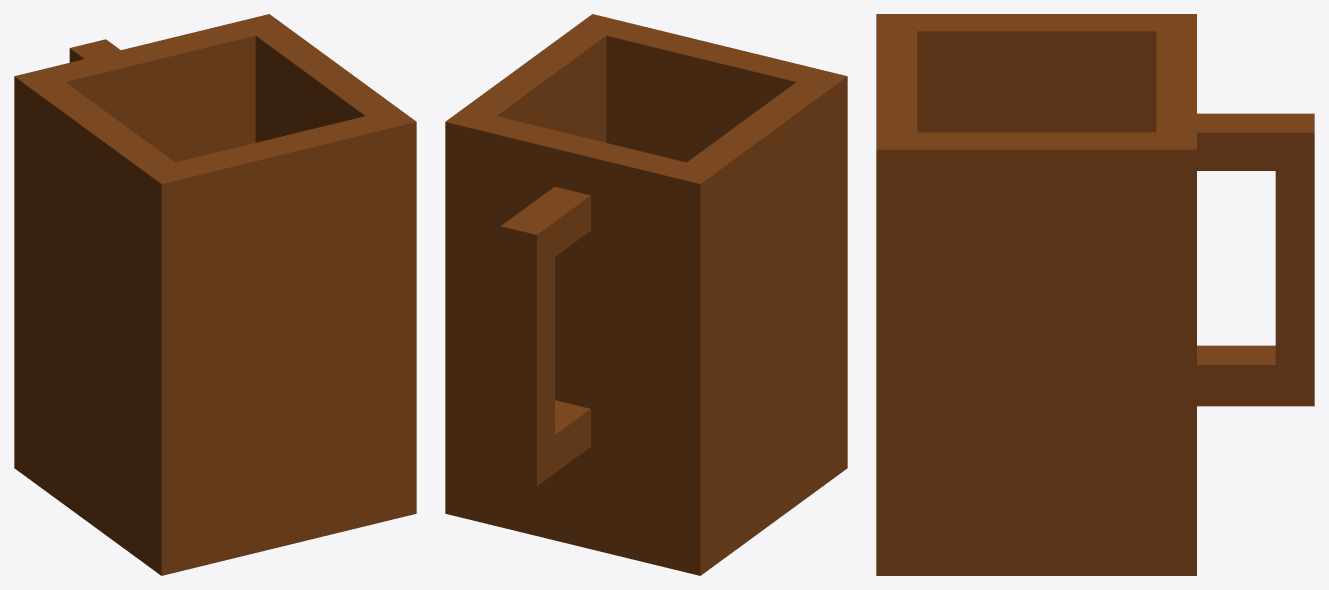
Rendered from mug.fbx.
The picture shows the model from 3 angles, left to right: view 1: azimuth 30°, elevation 25°; view 2: azimuth 150°, elevation 25°; view 3: azimuth 270°, elevation 25°; orthographic projection. The views are drawn at different scales.
Parts seen in each view (by area): view 1: Mug; view 2: Mug; view 3: Mug.
Part boxes in pixels (x1,y1,x2,y2): Mug: [14, 14, 416, 575]; Mug: [445, 14, 847, 575]; Mug: [876, 14, 1314, 575].
Size of the model in its own units: 44.55 by 65.34 by 60.87.
